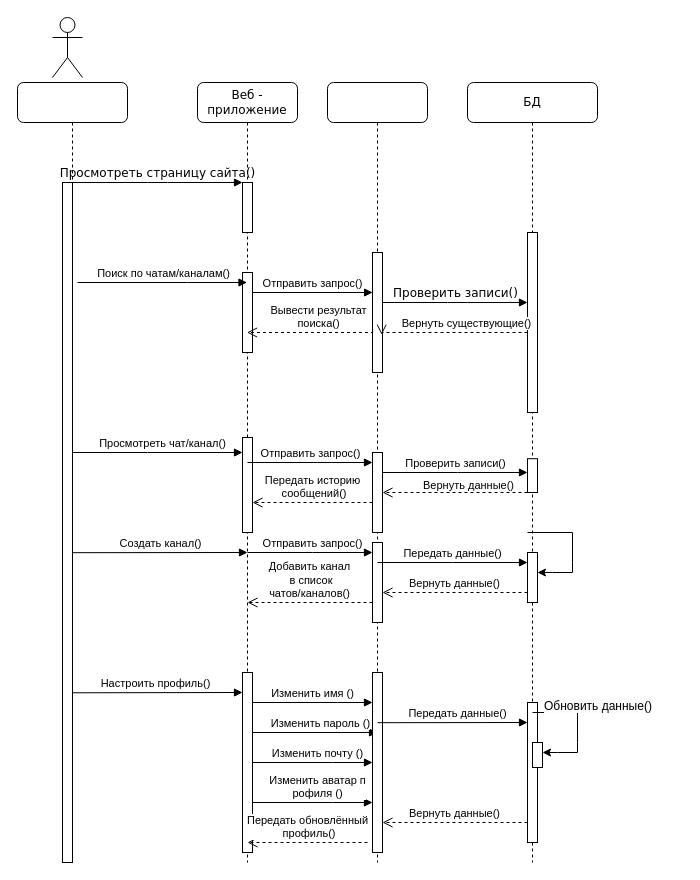
Some shapes in this 700 by 880 pixel diagram are drawn without their labels. Here are the shapes that lost their labels. From the top down, the box of each, then its label:
(16, 82, 128, 862): Авторизованный пользователь
(326, 82, 428, 862): Сервер
